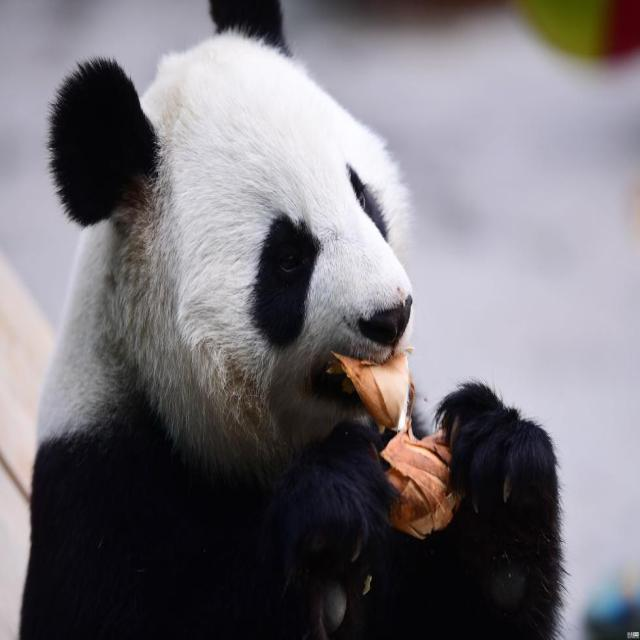panda: (26, 8, 562, 640)
